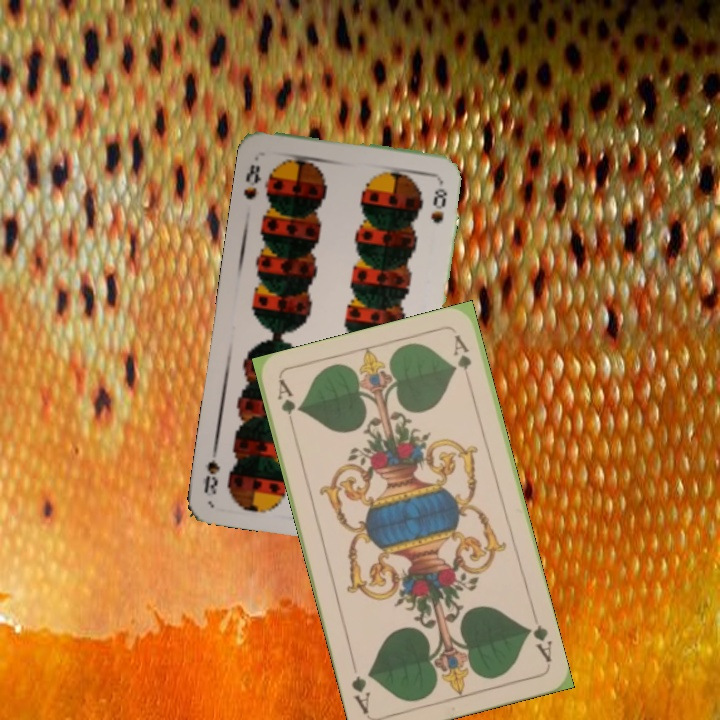GA: (522, 620, 555, 665), (273, 376, 298, 434)
S8: (239, 160, 264, 203)
